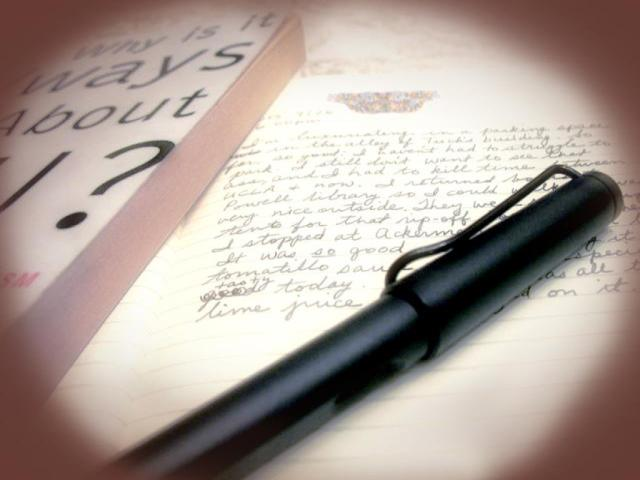PEN: (82, 123, 636, 480)
